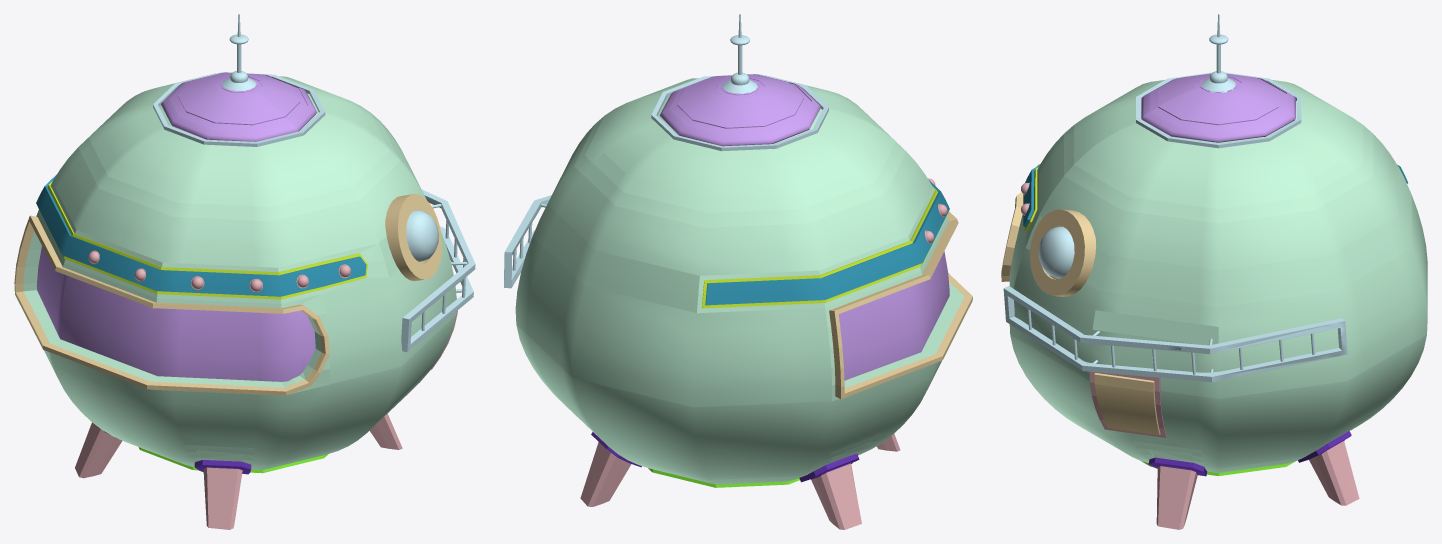
Rendered from ship.fbx.
The picture shows the model from 3 angles, left to right: view 1: azimuth 30°, elevation 25°; view 2: azimuth 150°, elevation 25°; view 3: azimuth 270°, elevation 25°; orthographic projection. The views are drawn at different scales.
Visible parts, largest first — view 1: Object002, Object007, Object009, Object004, Object003, Object010, Object006; view 2: Object002, Object007, Object009, Object004, Object006; view 3: Object002, Object007, Object004, Object009, Object003, Object010, Object006.
Boxes of the visible parts, <box> form: Object002: <box>14,72,457,474</box>; Object007: <box>160,72,317,141</box>; Object009: <box>75,414,402,529</box>; Object004: <box>401,189,475,352</box>; Object003: <box>385,194,441,281</box>; Object010: <box>406,210,438,261</box>; Object006: <box>222,14,257,91</box>; Object002: <box>515,74,972,487</box>; Object007: <box>659,74,820,146</box>; Object009: <box>580,434,900,529</box>; Object004: <box>504,195,551,288</box>; Object006: <box>721,14,757,93</box>; Object002: <box>1001,72,1427,476</box>; Object007: <box>1141,73,1295,142</box>; Object004: <box>1003,286,1347,382</box>; Object009: <box>1156,441,1359,529</box>; Object003: <box>1030,209,1096,296</box>; Object010: <box>1038,226,1074,278</box>; Object006: <box>1202,14,1235,92</box>.
Bounding box in the file's own units: 45.23 × 48.06 × 41.53.
